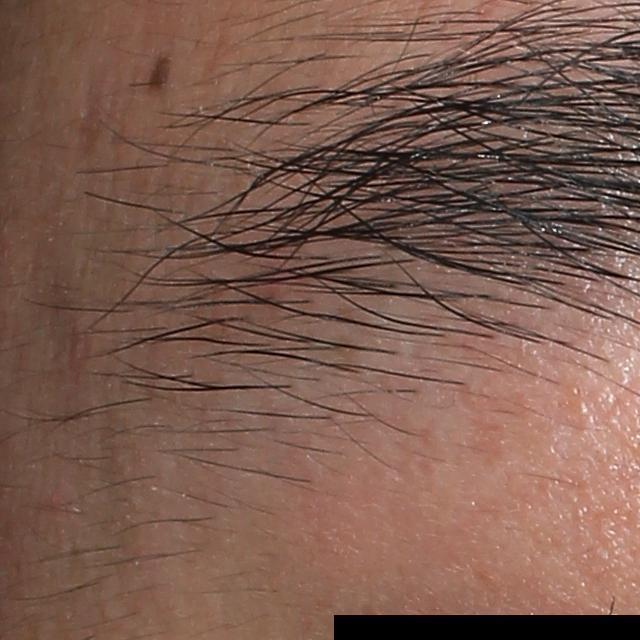nevus: (145, 54, 170, 87)
